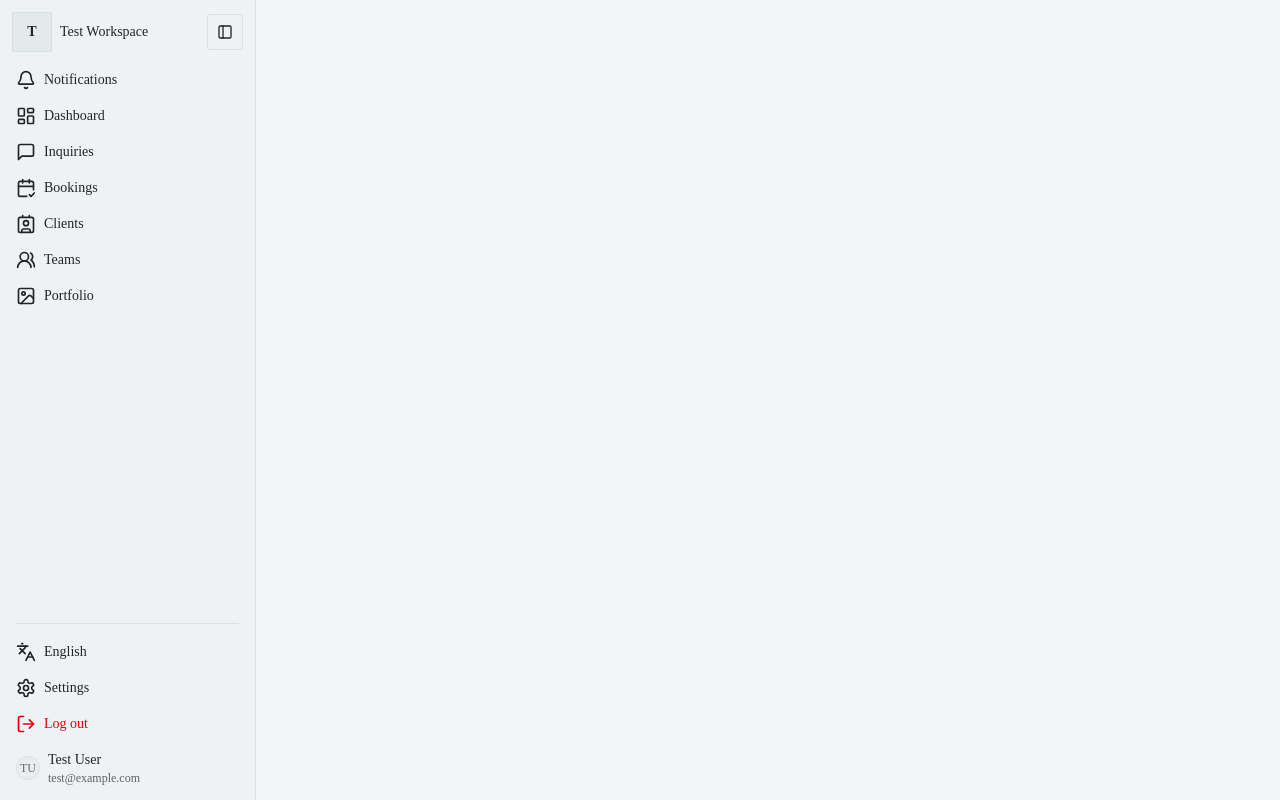
Test case: AppSidebar footer logout › opens a confirmation dialog when the logout button is clicked
Expected: the text "Log out?" is not shown
Click the button "Log out".
click(128, 724)  # box x1=8 y1=708 x2=247 y2=740
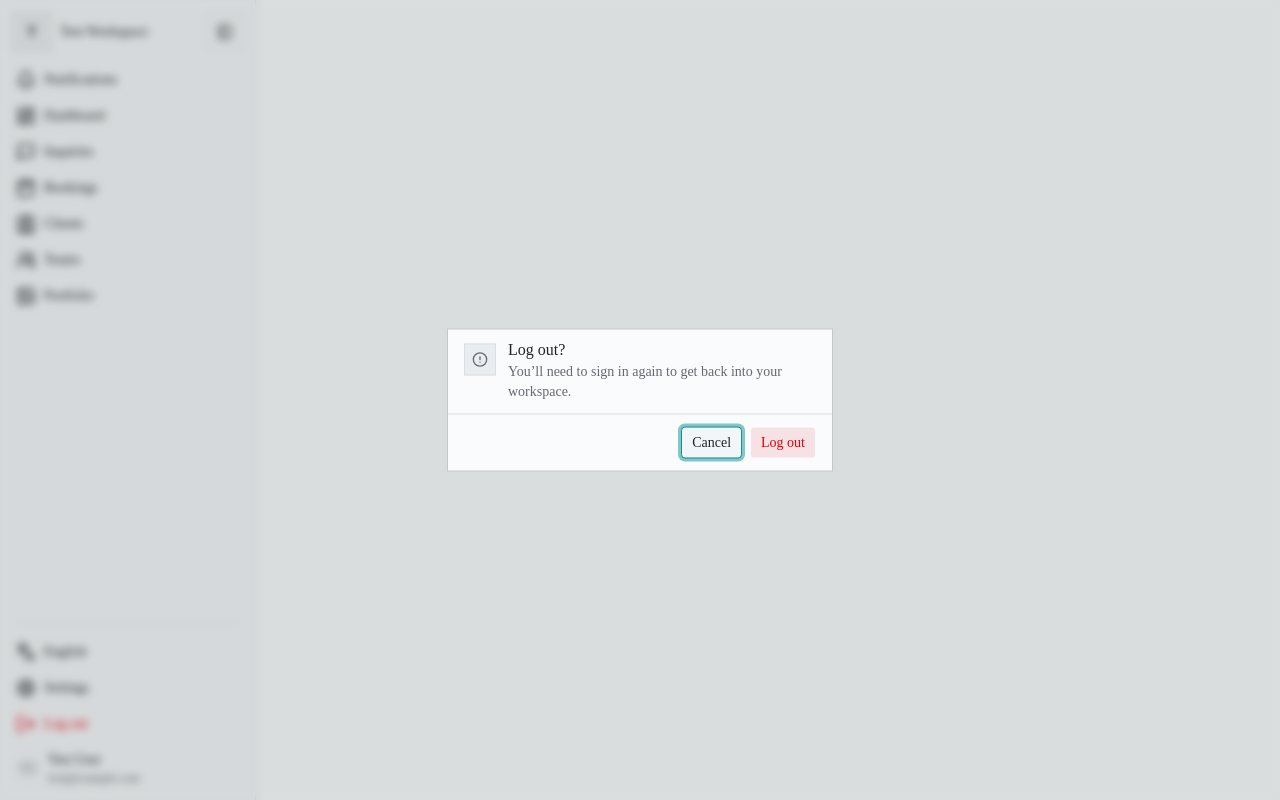
Expected: the heading "Log out?" is shown, x1=508 y1=340 x2=565 y2=358
